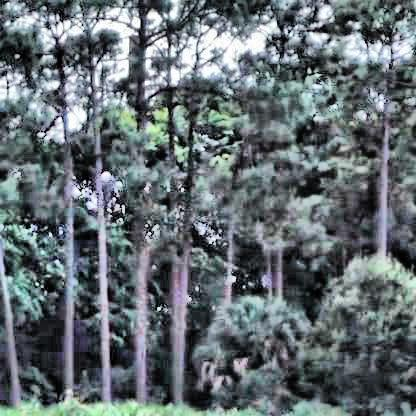golfball: (98, 169, 107, 178)
